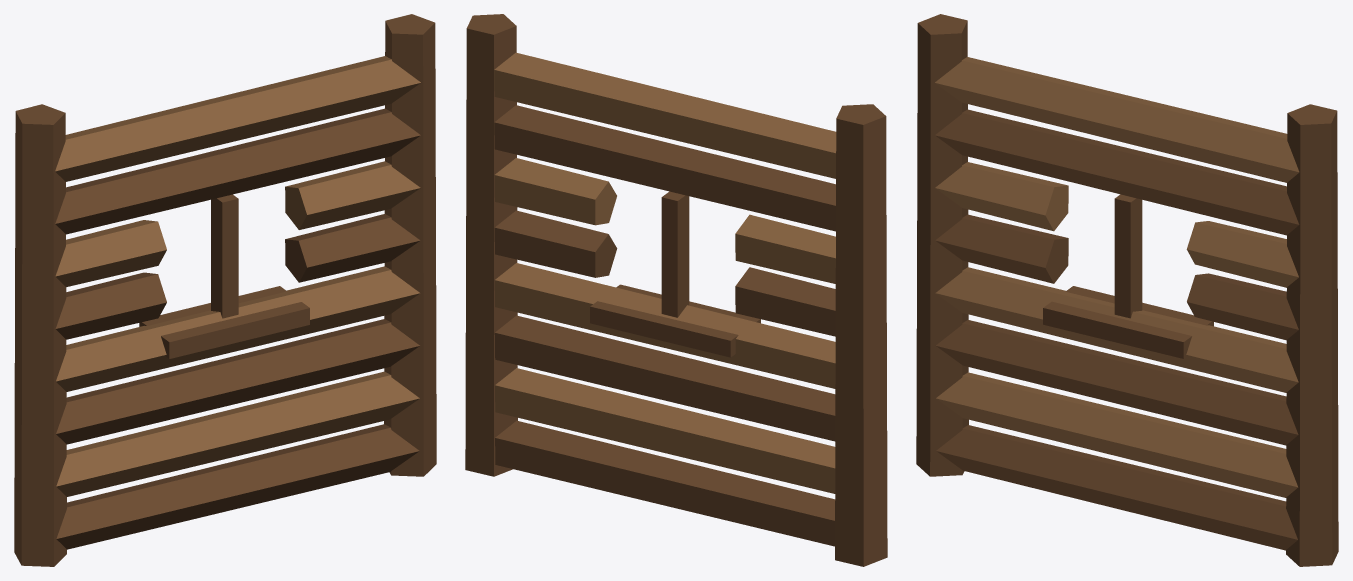
File: wall-log-window.glb
The picture shows the model from 3 angles, left to right: view 1: azimuth 30°, elevation 25°; view 2: azimuth 150°, elevation 25°; view 3: azimuth 330°, elevation 25°; orthographic projection.
Visible parts, largest first — view 1: wall_log_window; view 2: wall_log_window; view 3: wall_log_window.
Boxes of the visible parts, x1=… form: wall_log_window: x1=14, y1=14, x2=436, y2=566; wall_log_window: x1=465, y1=14, x2=887, y2=566; wall_log_window: x1=916, y1=14, x2=1338, y2=566.
Bounding box in the file's own units: 2.07 × 2.1 × 0.26.
